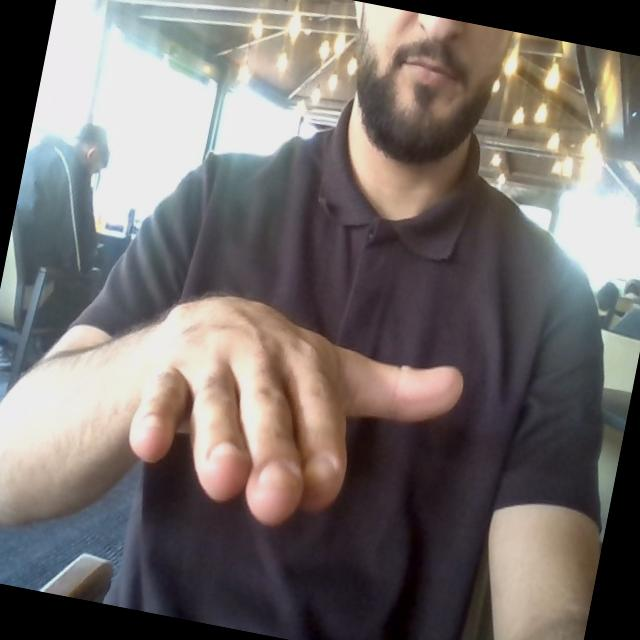Hand: (130, 297, 461, 525)
